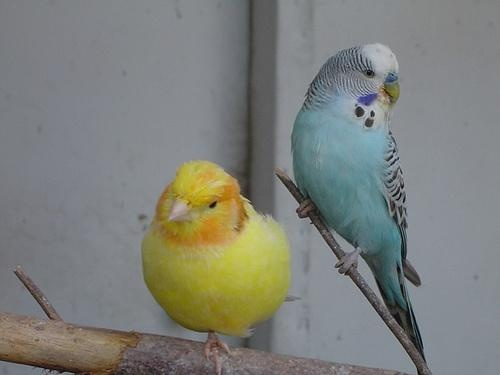bird: (297, 43, 428, 365), (141, 160, 291, 375)
